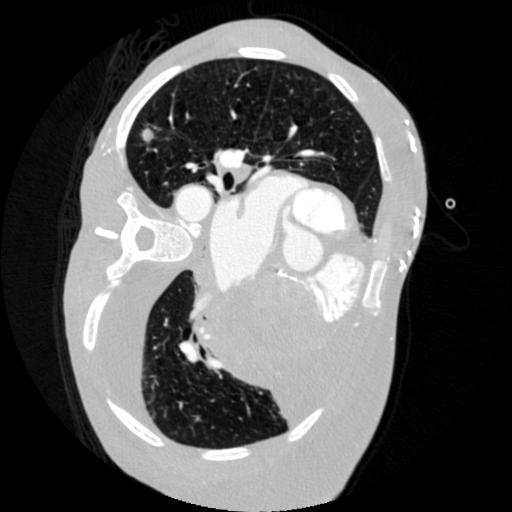nodule: (139, 128, 158, 147)
